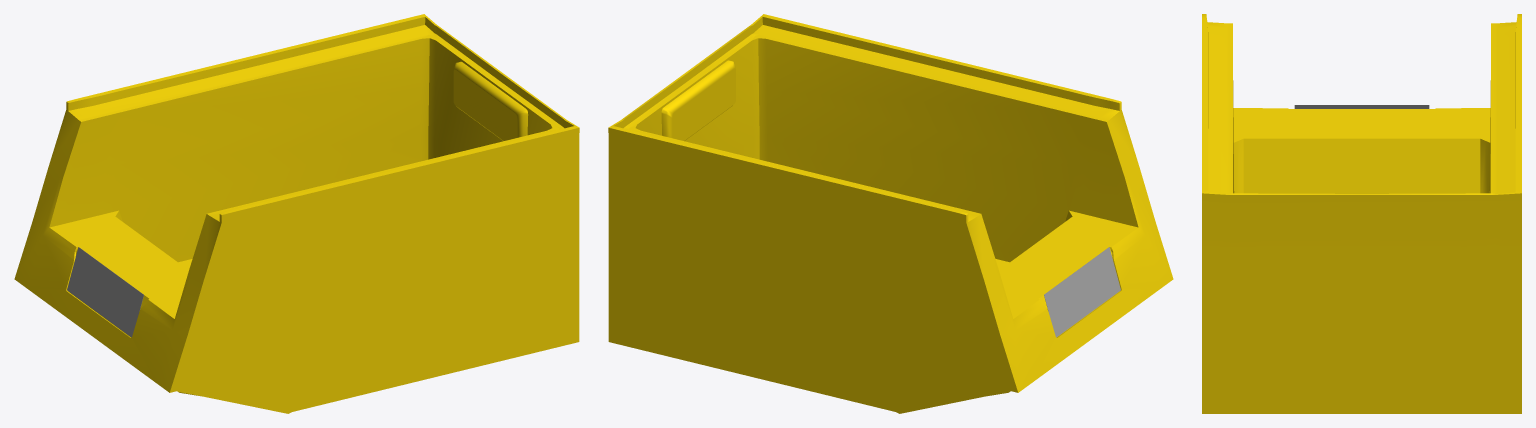
File: chemistry storage.fbx
The picture shows the model from 3 angles, left to right: view 1: azimuth 30°, elevation 25°; view 2: azimuth 150°, elevation 25°; view 3: azimuth 270°, elevation 25°; orthographic projection. The views are drawn at different scales.
Parts seen in each view (by area): view 1: chemical_rack1; view 2: chemical_rack1; view 3: chemical_rack1.
Boxes of the visible parts, box(x1,y1,x2,y2) form: chemical_rack1: box(14, 14, 579, 413); chemical_rack1: box(608, 14, 1173, 413); chemical_rack1: box(1202, 14, 1521, 413).
Size of the model in its own units: 53.48 by 26.84 by 35.09.
Materials: 2 (1 with a texture image).
